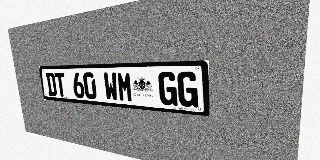0: (83, 72, 97, 99)
6: (72, 72, 85, 99)
D: (45, 73, 57, 96)
G: (177, 71, 198, 108), (158, 72, 178, 106)
M: (117, 72, 133, 102)
T: (54, 73, 67, 97)
W: (103, 72, 119, 101)
